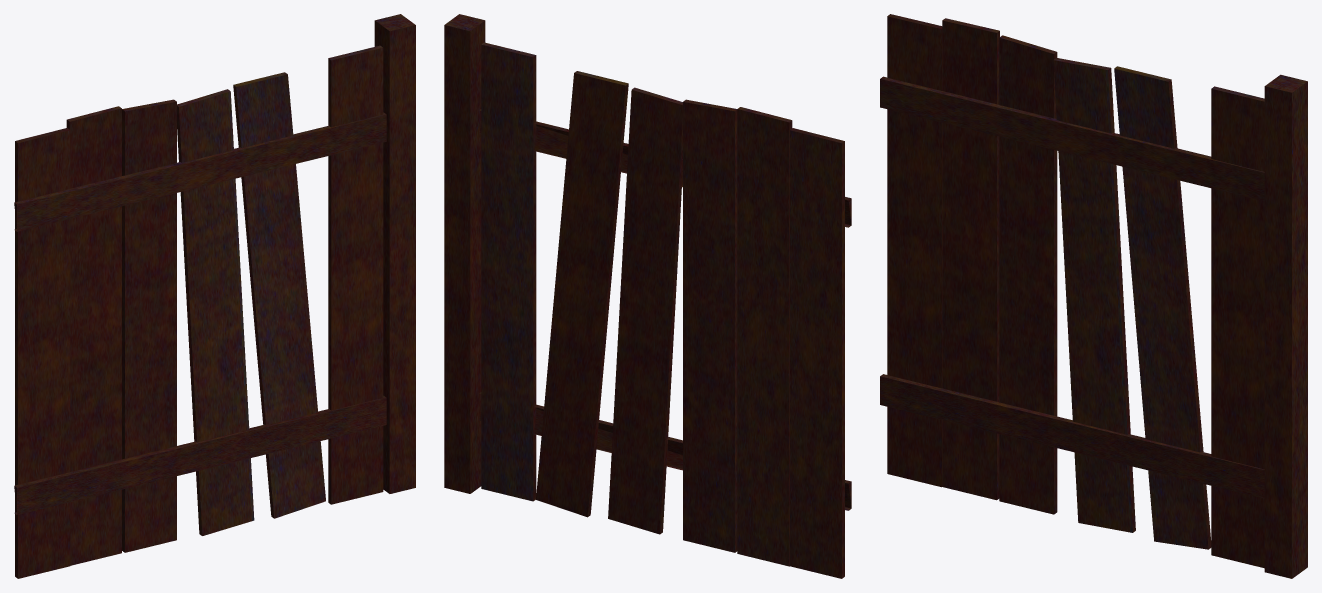
The model's file is Wood_4.FBX.
The picture shows the model from 3 angles, left to right: view 1: azimuth 30°, elevation 25°; view 2: azimuth 150°, elevation 25°; view 3: azimuth 330°, elevation 25°; orthographic projection. The views are drawn at different scales.
Parts seen in each view (by area): view 1: Wood_4; view 2: Wood_4; view 3: Wood_4.
Boxes of the visible parts, x1,y1,x2,y2 form: Wood_4: [14, 14, 415, 578]; Wood_4: [444, 14, 851, 578]; Wood_4: [880, 14, 1307, 578].
Size of the model in its own units: 76 by 85.25 by 5.
